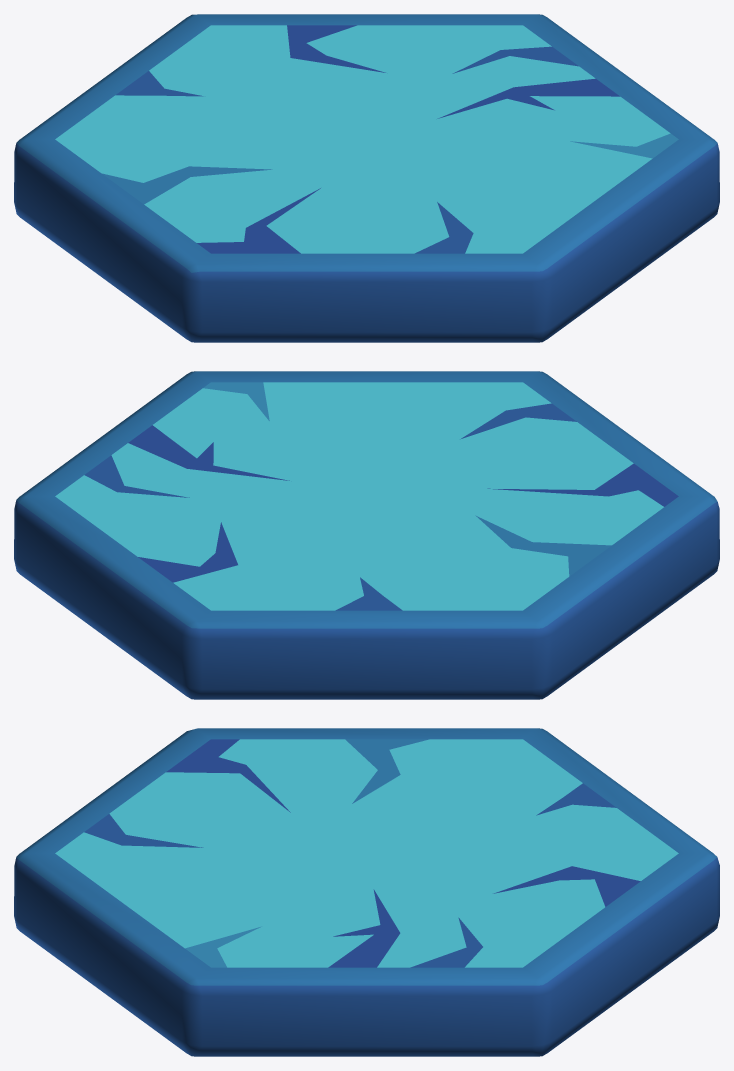
The model's file is Platform blue 3.fbx.
3 views of the same model, one above another, from view 1: azimuth 30°, elevation 25°; view 2: azimuth 150°, elevation 25°; view 3: azimuth 270°, elevation 25° (orthographic).
Visible parts, largest first — view 1: Platform blue 3; view 2: Platform blue 3; view 3: Platform blue 3.
Part boxes in pixels (bbox=[...]): Platform blue 3: bbox=[14, 14, 719, 342]; Platform blue 3: bbox=[14, 371, 719, 699]; Platform blue 3: bbox=[14, 728, 719, 1056].
Bounding box in the file's own units: 625 × 83.5 × 715.
